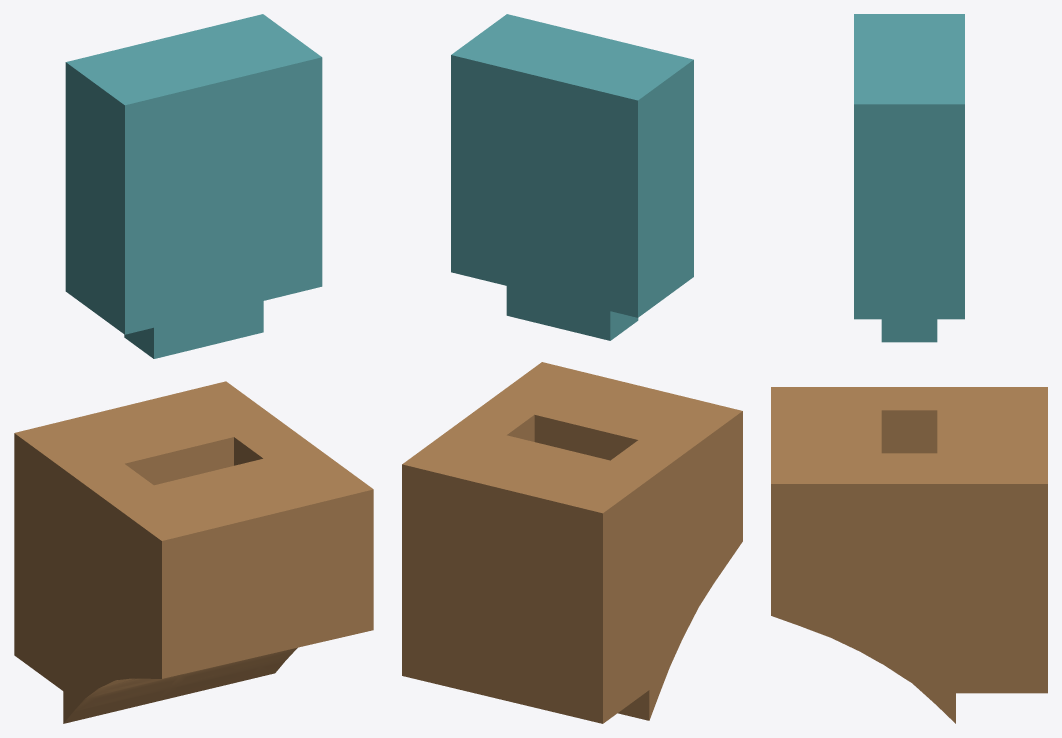
File: mast_foot_animated.glb
The picture shows the model from 3 angles, left to right: view 1: azimuth 30°, elevation 25°; view 2: azimuth 150°, elevation 25°; view 3: azimuth 270°, elevation 25°; orthographic projection. The views are drawn at different scales.
Parts seen in each view (by area): view 1: Fixed, Moving; view 2: Fixed, Moving; view 3: Fixed, Moving.
Part boxes in pixels (bbox=[...]): Fixed: bbox=[14, 381, 373, 723]; Moving: bbox=[65, 14, 322, 358]; Fixed: bbox=[402, 362, 742, 723]; Moving: bbox=[451, 14, 693, 340]; Fixed: bbox=[771, 387, 1047, 723]; Moving: bbox=[854, 14, 964, 342].
Size of the model in its own units: 0.58 by 1.72 by 0.7.
